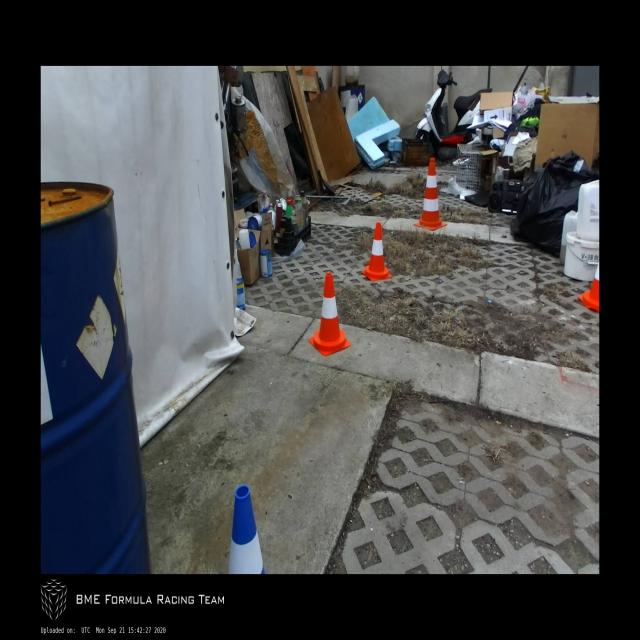blue_cone: (228, 486, 266, 574)
large_orange_cone: (413, 158, 447, 230)
orange_cone: (308, 273, 351, 356), (361, 222, 392, 282)
